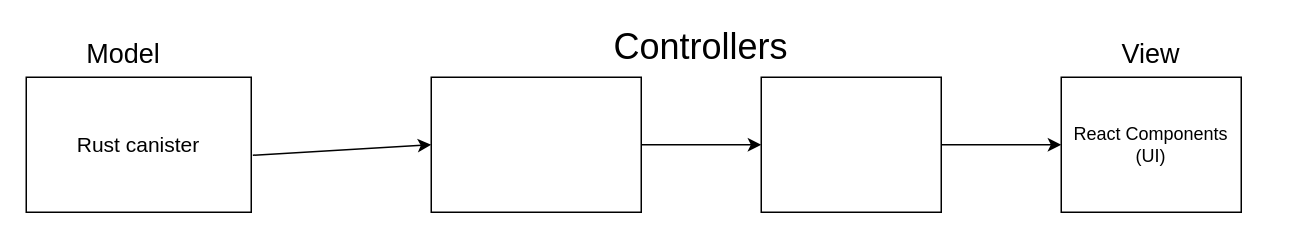
The diagram is 1298 pixels wide and 239 high, and some of its shapes have lost their labels. The shapes that lost their labels are listed below. From the top down, each one's centre as x and y in pixels, then its label:
the point at 535,144: Declarations (@dfinity/agent)
the point at 850,144: controller.js file (Data processing)
